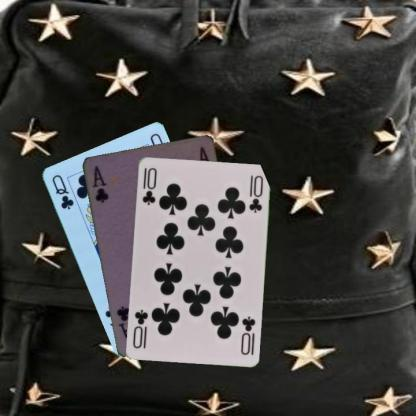10c: (139, 164, 158, 206), (238, 313, 256, 356)
Ac: (90, 163, 110, 204)
Qc: (49, 172, 75, 210)
